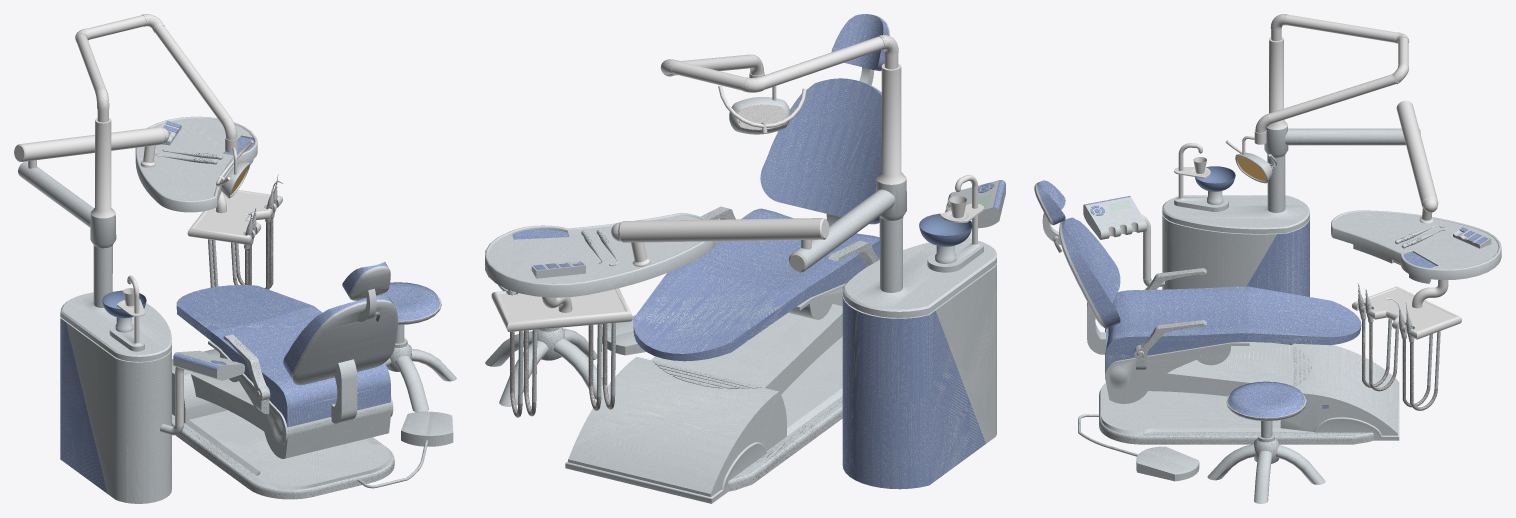
The model's file is dentist_chair.glb.
3 views of the same model, side by side, from view 1: azimuth 30°, elevation 25°; view 2: azimuth 150°, elevation 25°; view 3: azimuth 270°, elevation 25° (orthographic). The views are drawn at different scales.
Parts seen in each view (by area): view 1: SketchUp.028, instance_0, SketchUp, instance_2.001, SketchUp.069, SketchUp.004, SketchUp.038, SketchUp.027, SketchUp.001, SketchUp.079, SketchUp.019, instance_13 (+15 smaller); view 2: SketchUp, SketchUp.038, instance_0, instance_2, SketchUp.069, SketchUp.028, SketchUp.027, instance_13, SketchUp.079, SketchUp.019, SketchUp.018, SketchUp.036 (+20 smaller); view 3: SketchUp, instance_0, SketchUp.069, SketchUp.028, SketchUp.027, SketchUp.001, instance_2, SketchUp.004, SketchUp.038, SketchUp.019, SketchUp.079, SketchUp.097 (+20 smaller).
Part boxes in pixels (x1=…): SketchUp.028: x1=60, y1=317, x2=171, y2=503; instance_0: x1=176, y1=285, x2=390, y2=427; SketchUp: x1=172, y1=349, x2=392, y2=489; instance_2.001: x1=291, y1=266, x2=397, y2=385; SketchUp.069: x1=135, y1=116, x2=257, y2=212; SketchUp.004: x1=208, y1=340, x2=393, y2=458; SketchUp.038: x1=60, y1=318, x2=107, y2=493; SketchUp.027: x1=60, y1=292, x2=171, y2=361; SketchUp.001: x1=172, y1=414, x2=428, y2=499; SketchUp.079: x1=187, y1=190, x2=282, y2=244; SketchUp.019: x1=76, y1=15, x2=229, y2=123; instance_13: x1=14, y1=127, x2=165, y2=161; SketchUp: x1=565, y1=304, x2=842, y2=503; SketchUp.038: x1=842, y1=296, x2=985, y2=489; instance_0: x1=633, y1=208, x2=879, y2=361; instance_2: x1=760, y1=78, x2=881, y2=224; SketchUp.069: x1=485, y1=212, x2=714, y2=297; SketchUp.028: x1=842, y1=263, x2=996, y2=443; SketchUp.027: x1=842, y1=238, x2=996, y2=317; instance_13: x1=618, y1=218, x2=829, y2=242; SketchUp.079: x1=491, y1=288, x2=632, y2=331; SketchUp.019: x1=673, y1=36, x2=883, y2=90; SketchUp.018: x1=873, y1=179, x2=909, y2=298; SketchUp.036: x1=876, y1=63, x2=906, y2=184; SketchUp: x1=1101, y1=342, x2=1399, y2=440; instance_0: x1=1106, y1=286, x2=1361, y2=369; SketchUp.069: x1=1331, y1=210, x2=1501, y2=279; SketchUp.028: x1=1162, y1=213, x2=1309, y2=289; SketchUp.027: x1=1162, y1=195, x2=1309, y2=233; SketchUp.001: x1=1078, y1=389, x2=1373, y2=456; instance_2: x1=1061, y1=217, x2=1120, y2=327; SketchUp.004: x1=1105, y1=328, x2=1249, y2=403; SketchUp.038: x1=1246, y1=218, x2=1309, y2=344; SketchUp.019: x1=1269, y1=14, x2=1408, y2=123; SketchUp.079: x1=1352, y1=286, x2=1461, y2=339; SketchUp.097: x1=1228, y1=381, x2=1304, y2=417.
Bounding box in the file's own units: 2.29 × 2.08 × 2.63.
13 materials, 1 textured.
